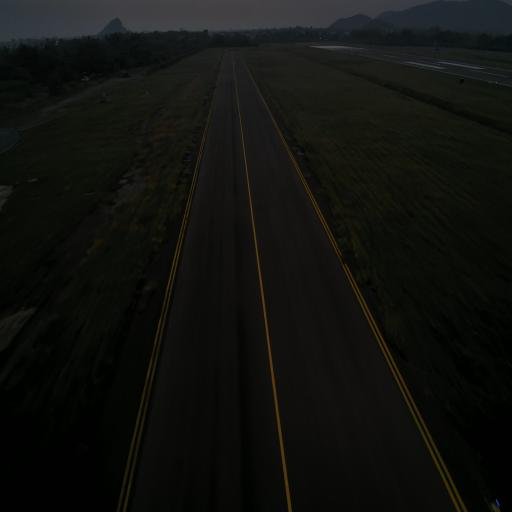on: (494, 495, 503, 512), (188, 153, 192, 161), (298, 148, 301, 154)
